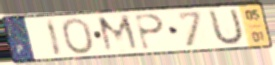7: (177, 10, 205, 49)
I: (45, 18, 65, 58)
M: (95, 13, 143, 54)
O: (59, 17, 97, 56)
P: (133, 13, 166, 51)
U: (207, 6, 246, 47)
